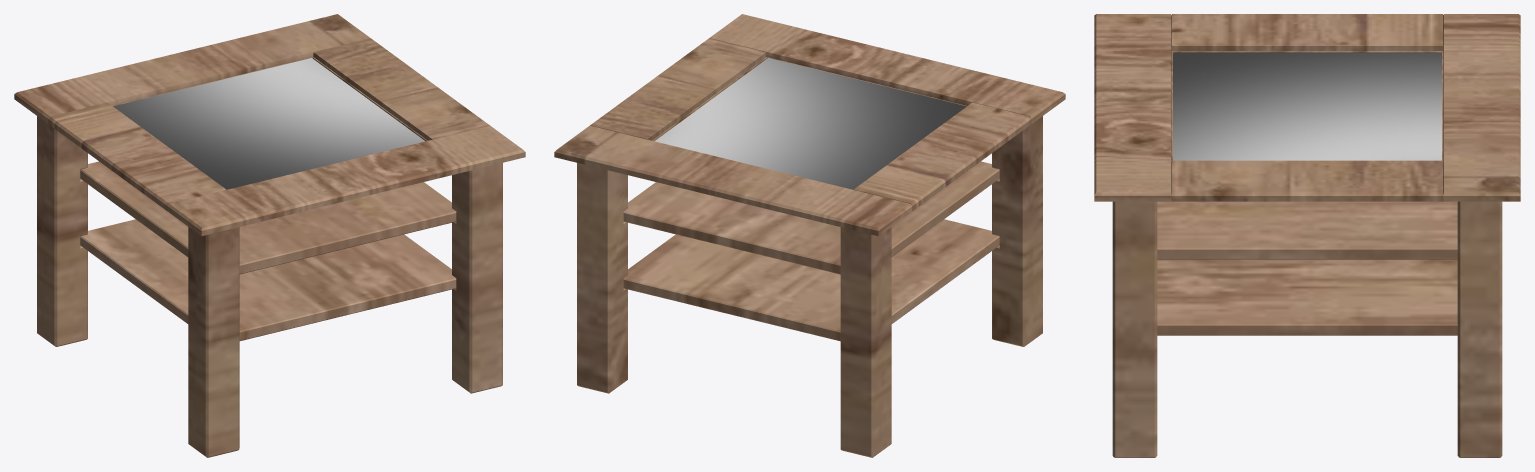
3 renders of one model, left to right at view 1: azimuth 30°, elevation 25°; view 2: azimuth 150°, elevation 25°; view 3: azimuth 270°, elevation 25°, orthographic. The views are drawn at different scales.
Parts seen in each view (by area): view 1: Wood_Table, Cube; view 2: Wood_Table, Cube; view 3: Wood_Table, Cube.
Boxes of the visible parts, bbox=[...] form: Wood_Table: bbox=[14, 14, 525, 457]; Cube: bbox=[113, 58, 424, 189]; Wood_Table: bbox=[554, 14, 1065, 457]; Cube: bbox=[655, 58, 966, 189]; Wood_Table: bbox=[1094, 14, 1520, 457]; Cube: bbox=[1173, 52, 1441, 160].
Bounding box in the file's own units: 4.29 × 3.03 × 4.29.
Materials: 2 (2 with a texture image).
